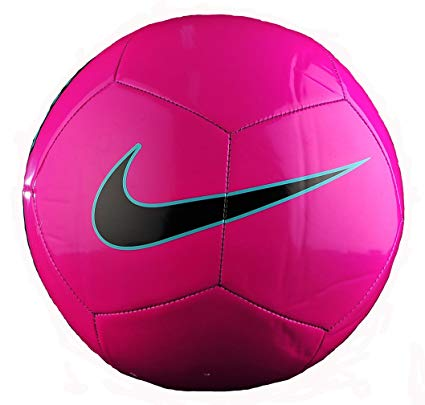Nonrec_Plastic: (25, 7, 402, 396)
